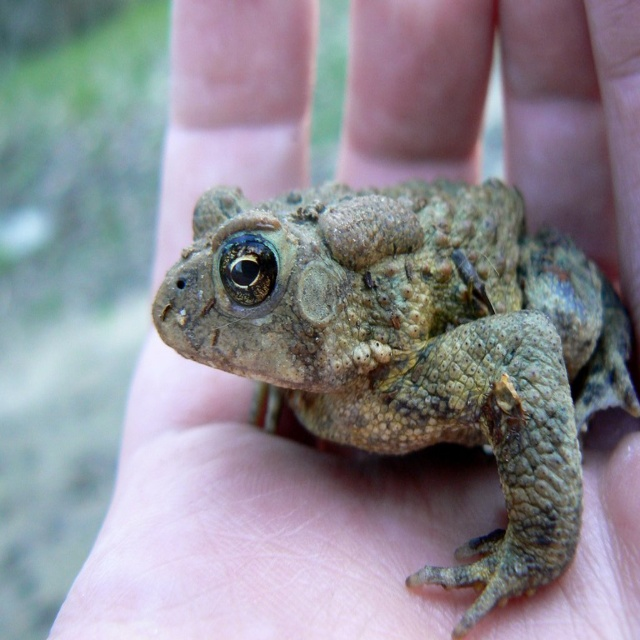Frog: (148, 181, 640, 639)
